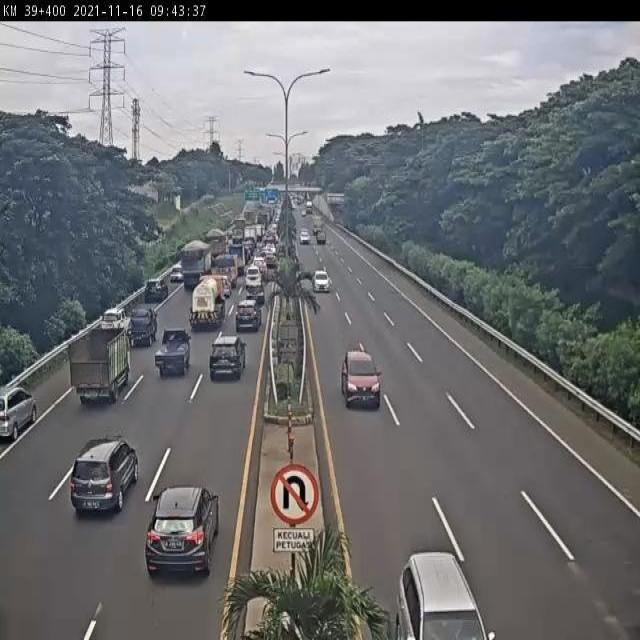Car: (396, 551, 492, 639), (143, 485, 220, 578), (70, 434, 139, 514), (341, 347, 382, 410), (0, 386, 38, 442), (209, 334, 248, 381), (154, 328, 192, 376), (128, 306, 158, 346), (235, 299, 262, 333), (100, 308, 128, 332), (144, 279, 168, 304), (244, 282, 265, 308), (312, 270, 331, 292), (170, 265, 184, 283), (223, 280, 231, 298), (300, 230, 310, 244), (316, 231, 326, 244), (301, 210, 306, 217)
Truck: (69, 327, 130, 403), (188, 277, 227, 328), (181, 239, 214, 289)
